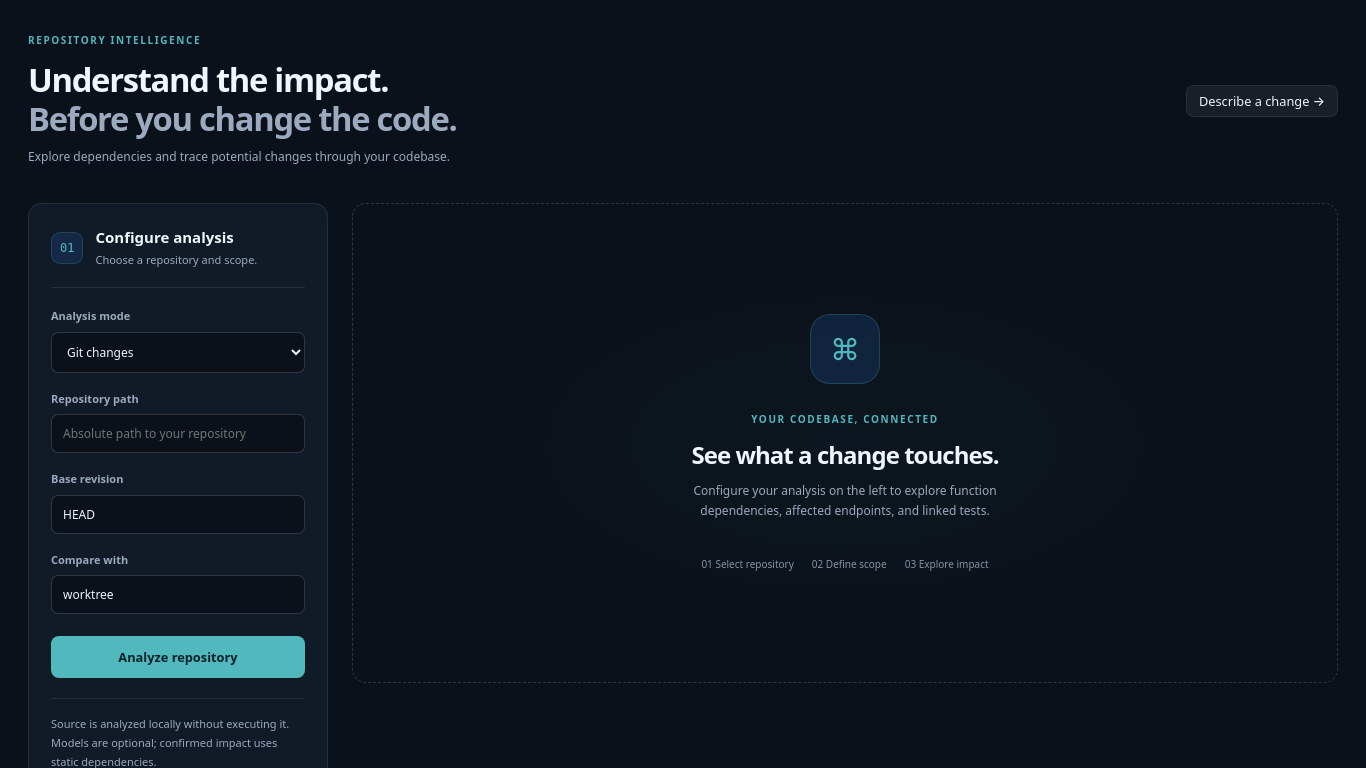
Repository analysis API integration › submits repository changes and exposes the result
Step 1. Type "examples/commerce" into the field labelled "Repository path" → {"x": 178, "y": 434}, box [51,414,305,453]
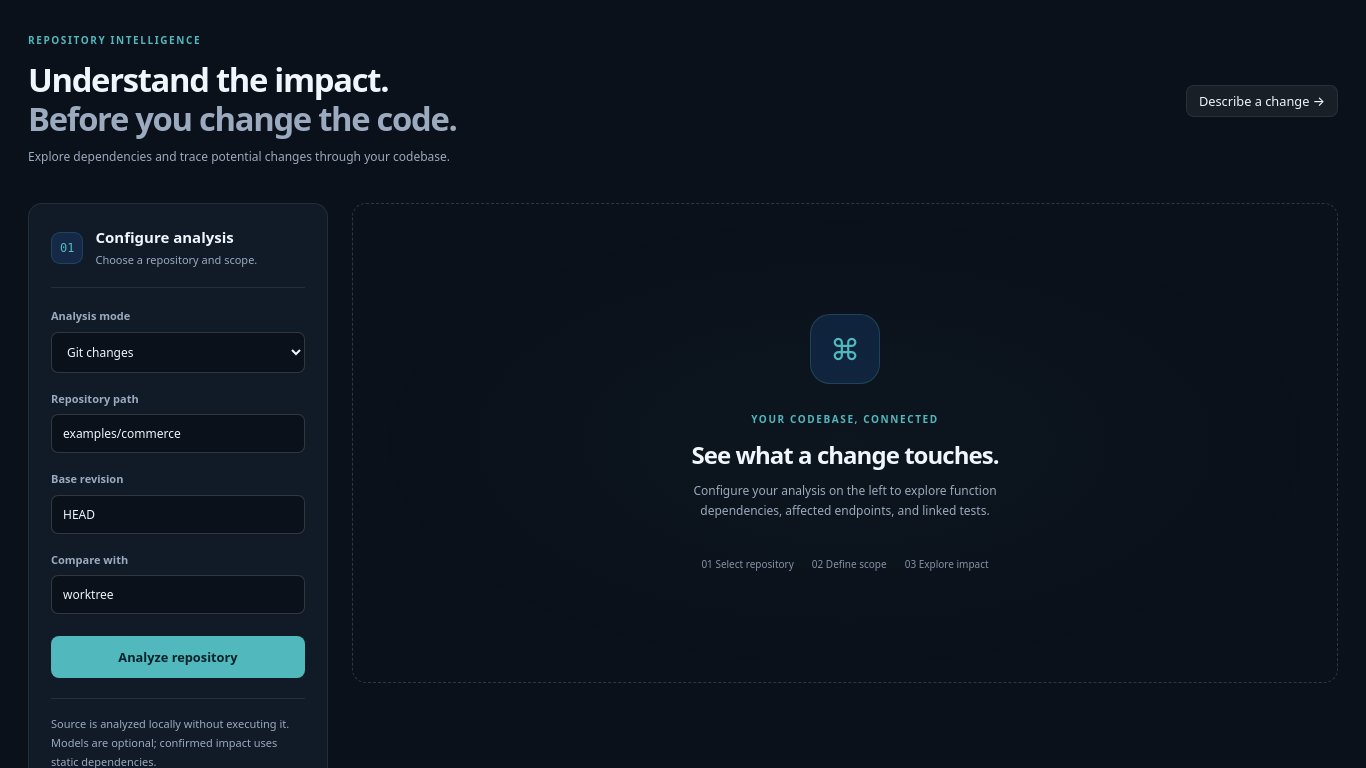
Step 2. Click the button "Analyze repository" → {"x": 178, "y": 657}, box [51,636,305,678]
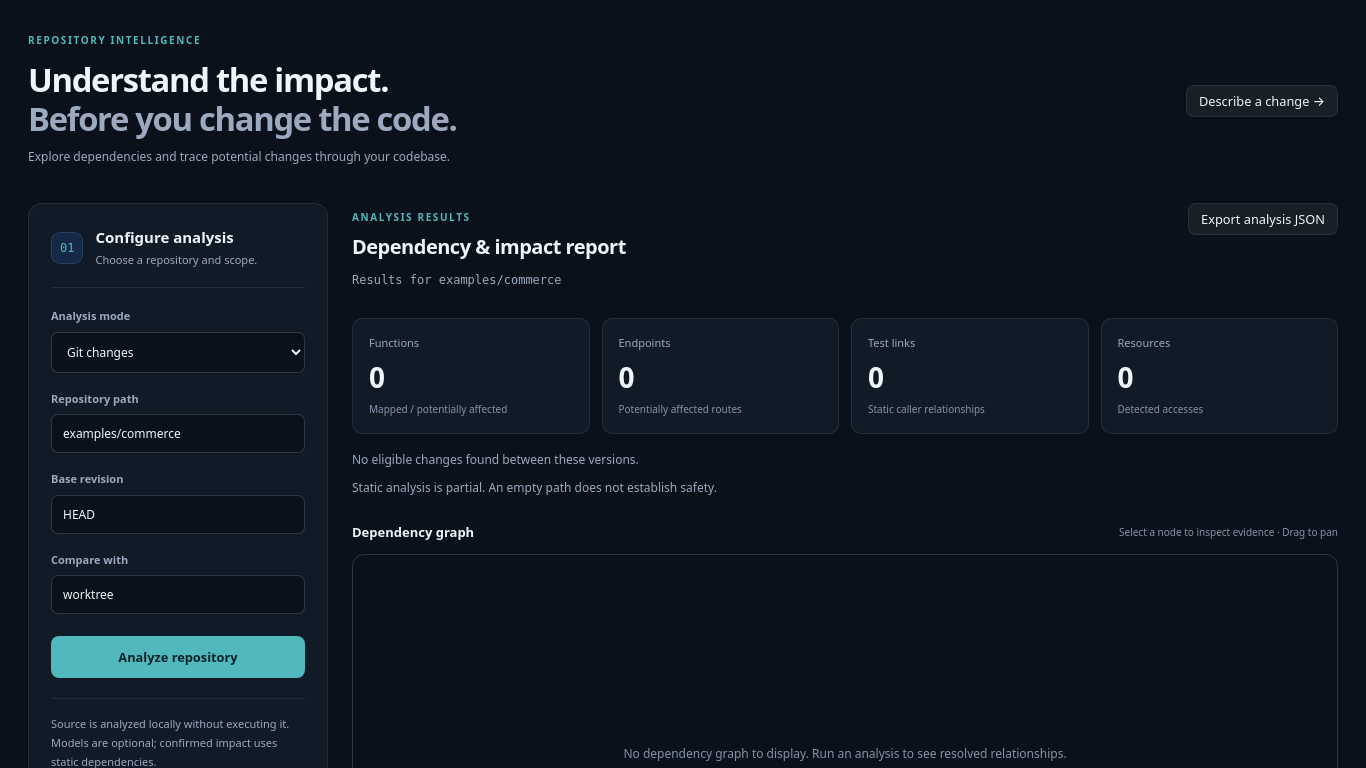
Expected: the button "Export analysis JSON" is shown, [1188,203,1338,235]
